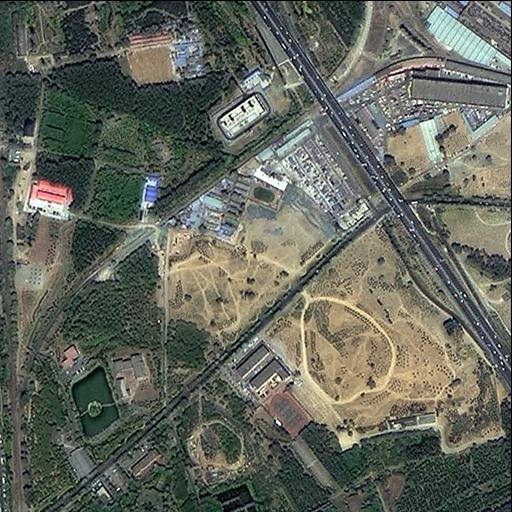school: (237, 341, 313, 440), (220, 173, 284, 240)
